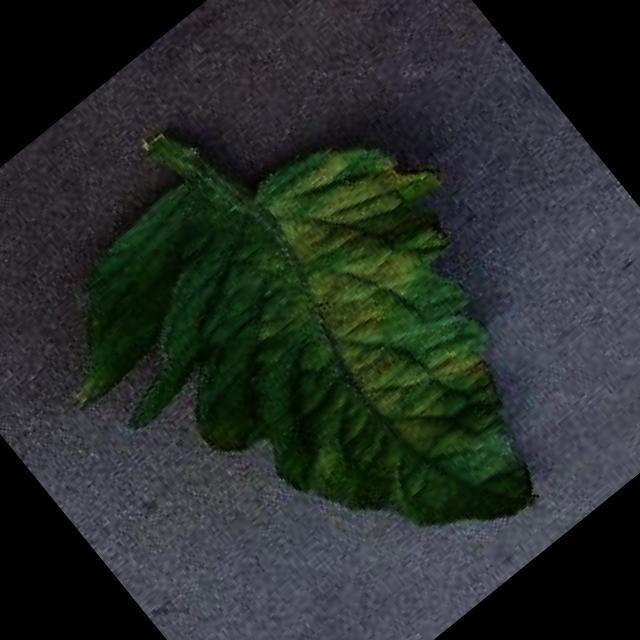Tomato mold leaf: (0, 54, 634, 640)
